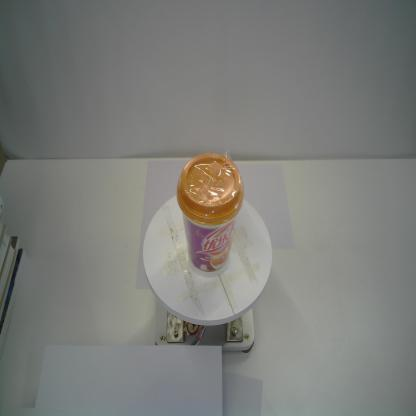Instant Drink: (176, 152, 244, 279)
